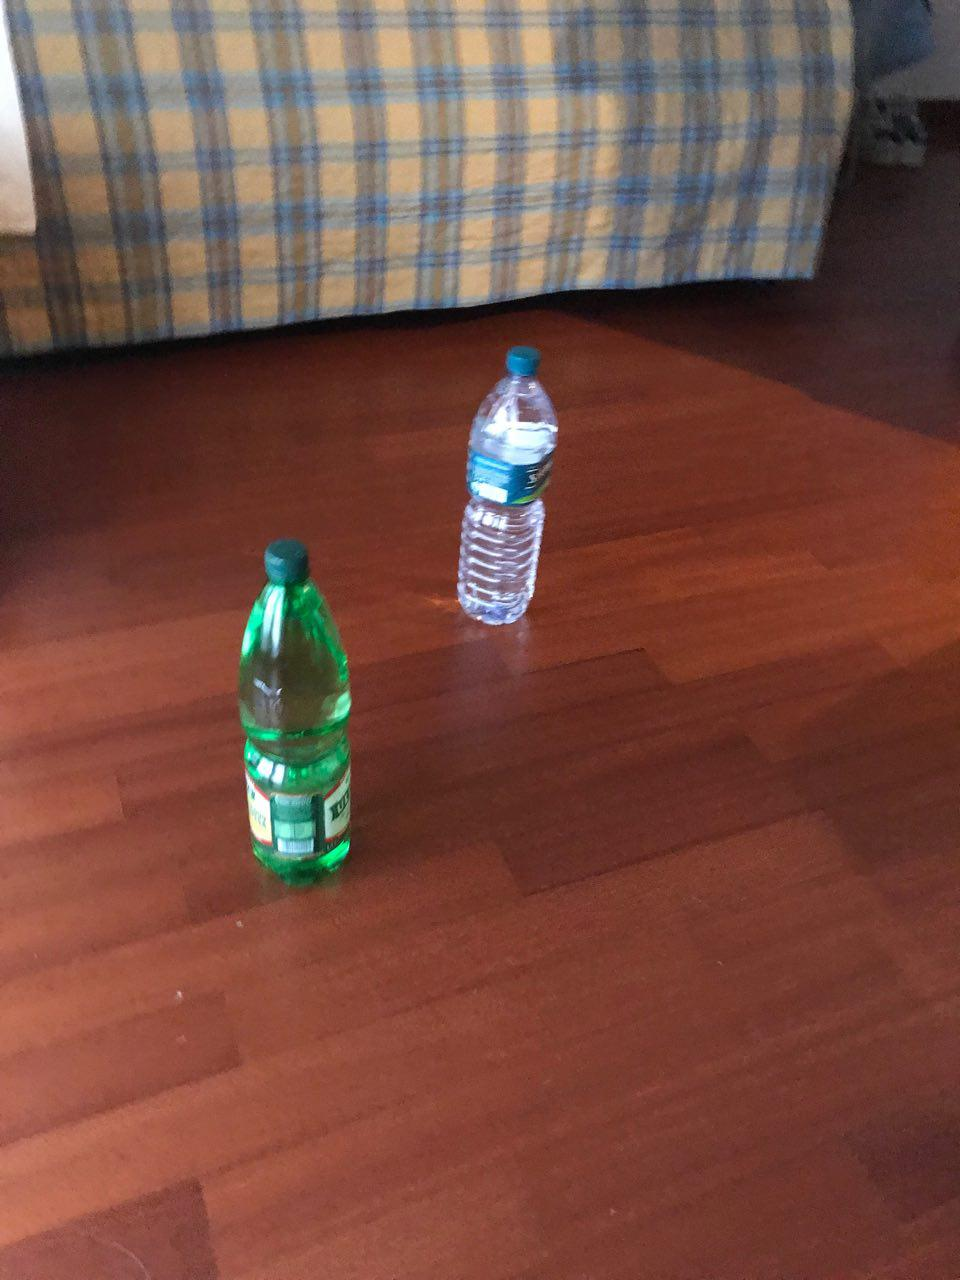san_bernardo: (456, 345, 560, 627)
